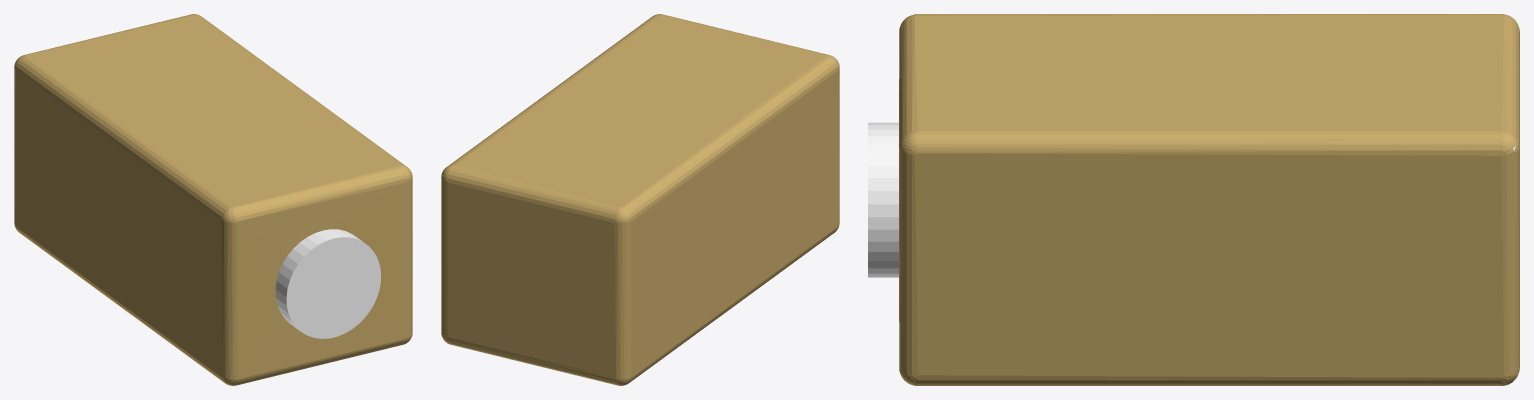
The model's file is Leg2.dae.
The picture shows the model from 3 angles, left to right: view 1: azimuth 30°, elevation 25°; view 2: azimuth 150°, elevation 25°; view 3: azimuth 270°, elevation 25°; orthographic projection. The views are drawn at different scales.
Parts seen in each view (by area): view 1: leg2; view 2: leg2; view 3: leg2.
Part boxes in pixels (x1,y1,x2,y2): leg2: [14, 14, 412, 385]; leg2: [441, 14, 839, 385]; leg2: [868, 14, 1519, 385].
Size of the model in its own units: 0.2 by 0.42 by 0.18.
Materials: 1 (1 with a texture image).
